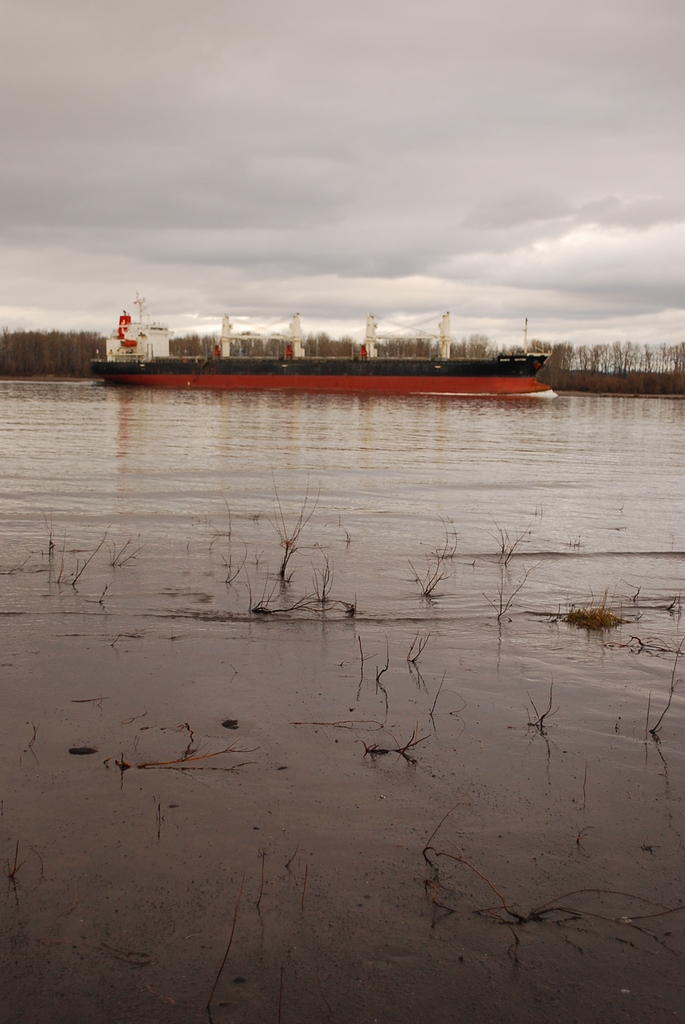boat: (75, 285, 578, 413)
